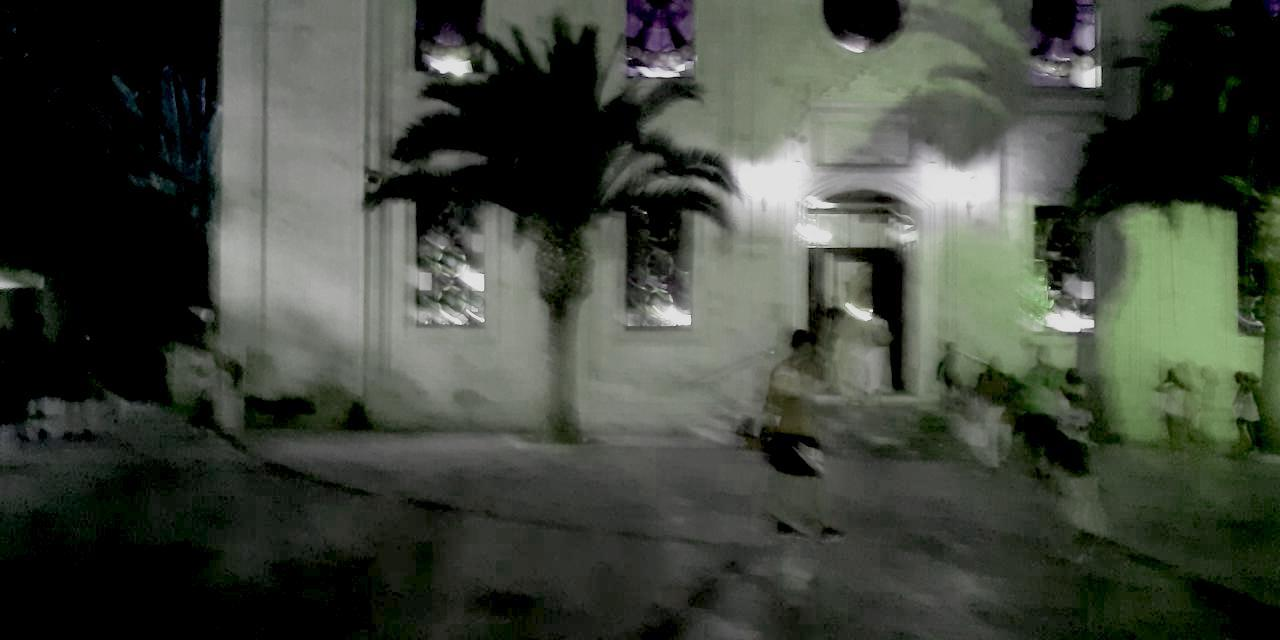Agios Titos: (209, 12, 1274, 415)
